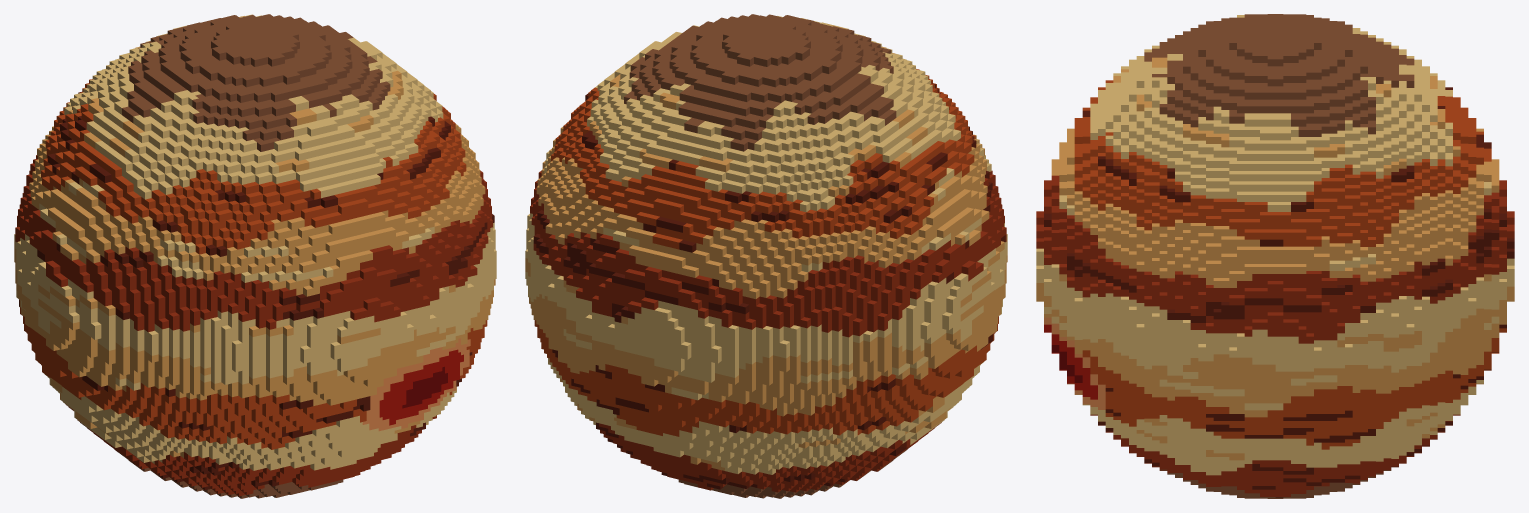
File: jupiter_voxel.glb
3 views of the same model, side by side, from view 1: azimuth 30°, elevation 25°; view 2: azimuth 150°, elevation 25°; view 3: azimuth 270°, elevation 25° (orthographic).
Parts seen in each view (by area): view 1: Jupiter.001; view 2: Jupiter.001; view 3: Jupiter.001.
Part boxes in pixels (x1,y1,x2,y2): Jupiter.001: [14, 14, 496, 498]; Jupiter.001: [525, 14, 1007, 498]; Jupiter.001: [1036, 14, 1514, 498].
Bounding box in the file's own units: 2.48 × 2.48 × 2.48.
